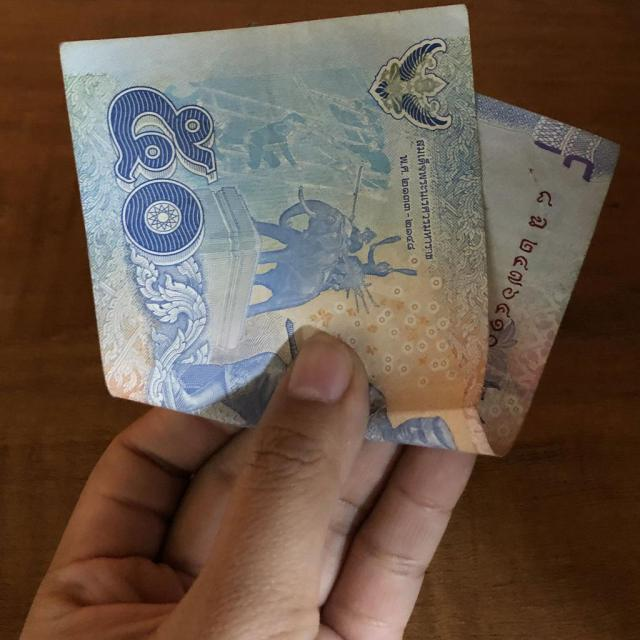THAI50: (60, 8, 616, 455)
